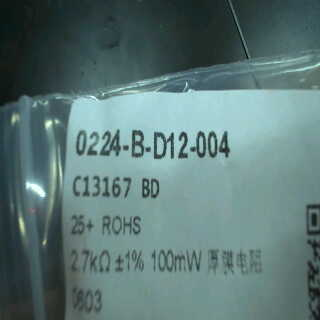2.7kR: (64, 246, 112, 279)
